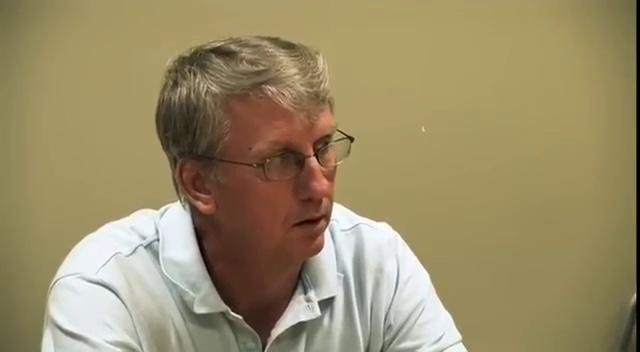others: (38, 33, 471, 351)
